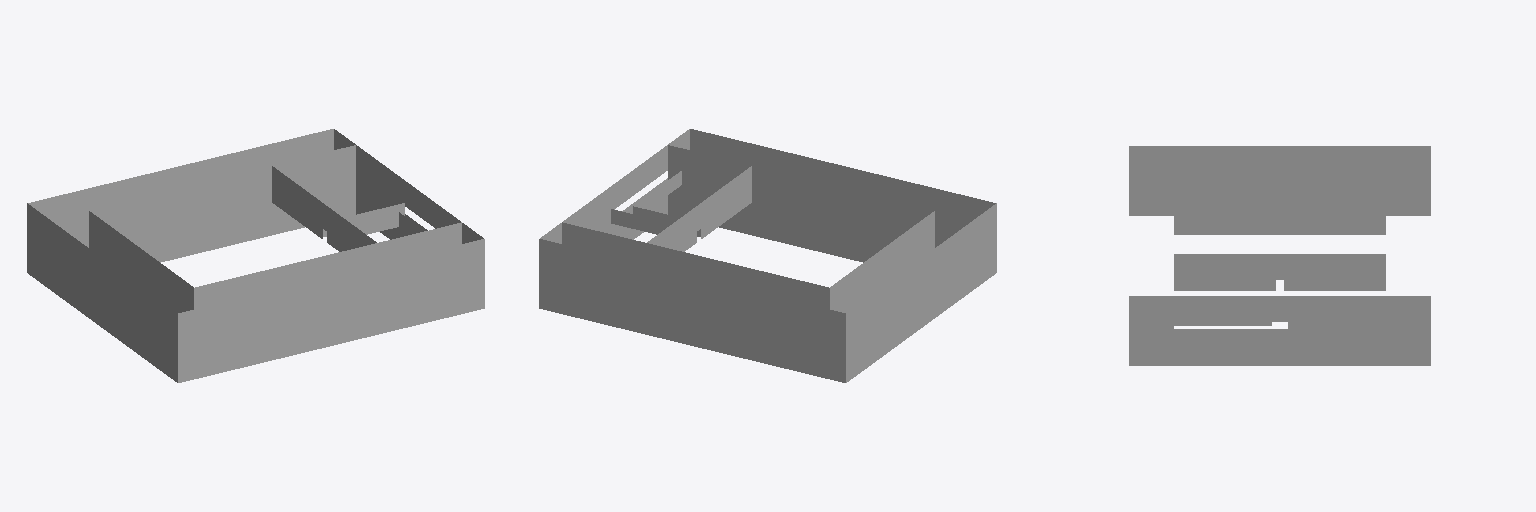
The model's file is castleouterwalls.obj.
3 renders of one model, left to right at view 1: azimuth 30°, elevation 25°; view 2: azimuth 150°, elevation 25°; view 3: azimuth 270°, elevation 25°, orthographic.
Visible parts, largest first — view 1: wallCLB_Plane.018, wallCRB_Plane.017, wallCF_Plane.028, wallCR_Plane.030, wallCL_Plane.029, wallCFB_Plane.019, wall1.22_Plane.022, wallCC1_Plane.027, wallCC2_Plane.010, wall1.2_Plane.003, wall2.1_Plane.004; view 2: wallCR_Plane.030, wallCL_Plane.029, wallCF_Plane.028, wallCLB_Plane.018, wallCRB_Plane.017, wallCFB_Plane.019, wall1.22_Plane.022, wallCC2_Plane.010, wallCC1_Plane.027, wallfar_Plane.023, wall1.2_Plane.003, wall1.3_Plane.015; view 3: wallCFB_Plane.019, wall1.2_Plane.003, wallCF_Plane.028, wall1.22_Plane.022, wallCC1_Plane.027, wallCC2_Plane.010, wallLONG_Plane.032.
Boxes of the visible parts, x1=… form: wallCLB_Plane.018: x1=178, y1=239, x2=484, y2=382; wallCRB_Plane.017: x1=89, y1=145, x2=355, y2=262; wallCF_Plane.028: x1=27, y1=203, x2=177, y2=382; wallCR_Plane.030: x1=28, y1=129, x2=333, y2=247; wallCL_Plane.029: x1=194, y1=222, x2=461, y2=308; wallCFB_Plane.019: x1=89, y1=211, x2=193, y2=312; wall1.22_Plane.022: x1=334, y1=129, x2=483, y2=243; wallCC1_Plane.027: x1=272, y1=166, x2=320, y2=237; wallCC2_Plane.010: x1=329, y1=208, x2=376, y2=251; wall1.2_Plane.003: x1=356, y1=178, x2=427, y2=239; wall2.1_Plane.004: x1=352, y1=212, x2=398, y2=234; wallCR_Plane.030: x1=539, y1=239, x2=845, y2=382; wallCL_Plane.029: x1=668, y1=145, x2=934, y2=262; wallCF_Plane.028: x1=846, y1=203, x2=996, y2=382; wallCLB_Plane.018: x1=690, y1=129, x2=995, y2=247; wallCRB_Plane.017: x1=562, y1=222, x2=829, y2=308; wallCFB_Plane.019: x1=830, y1=211, x2=934, y2=312; wall1.22_Plane.022: x1=540, y1=129, x2=689, y2=243; wallCC2_Plane.010: x1=703, y1=166, x2=751, y2=237; wallCC1_Plane.027: x1=647, y1=208, x2=694, y2=251; wallfar_Plane.023: x1=611, y1=209, x2=671, y2=234; wall1.2_Plane.003: x1=596, y1=178, x2=667, y2=239; wall1.3_Plane.015: x1=634, y1=171, x2=681, y2=209; wallCFB_Plane.019: x1=1174, y1=165, x2=1385, y2=234; wall1.2_Plane.003: x1=1129, y1=329, x2=1430, y2=365; wallCF_Plane.028: x1=1129, y1=146, x2=1430, y2=215; wall1.22_Plane.022: x1=1129, y1=296, x2=1430, y2=321; wallCC1_Plane.027: x1=1288, y1=254, x2=1385, y2=290; wallCC2_Plane.010: x1=1174, y1=254, x2=1271, y2=290; wallLONG_Plane.032: x1=1288, y1=322, x2=1430, y2=328.
Bounding box in the file's own units: 174 × 38 × 148.